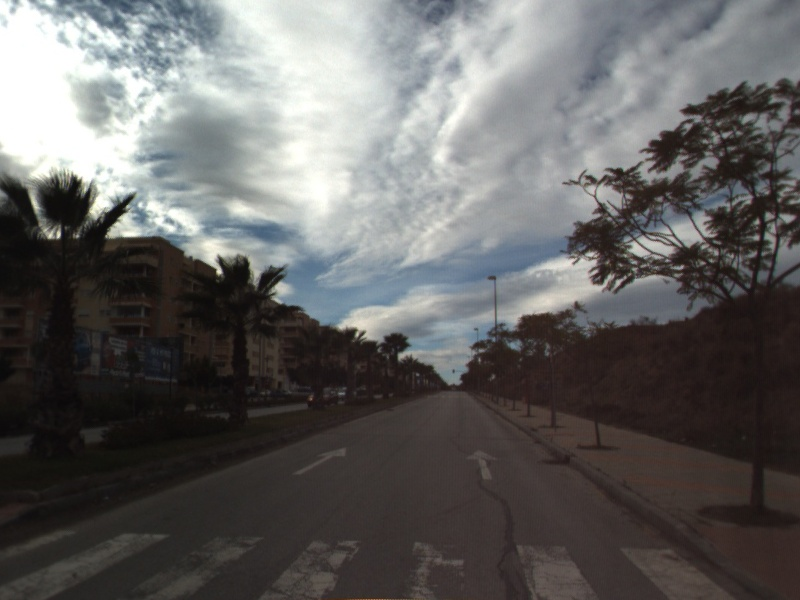STRAIGHT: (290, 445, 348, 477), (463, 448, 501, 482)
